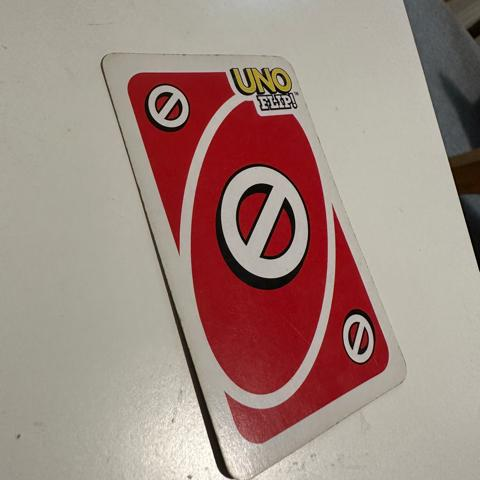lredskip-20: (131, 62, 217, 152)
